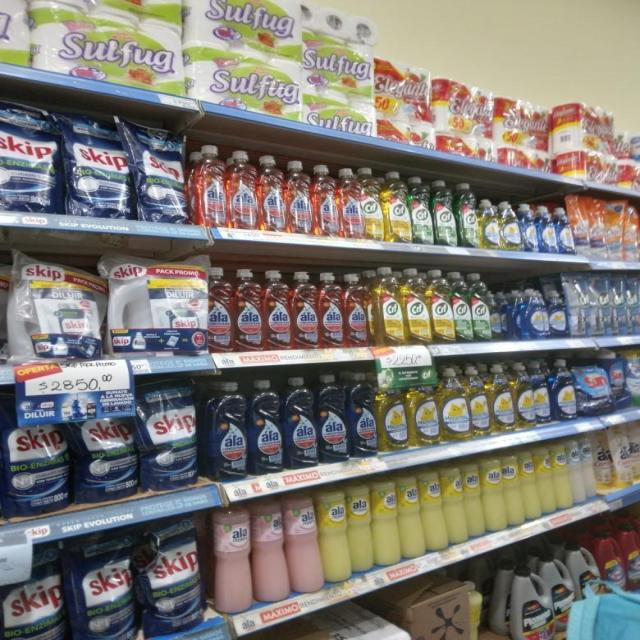ala_conc_azul: (207, 381, 248, 480), (249, 378, 283, 476), (284, 377, 317, 470), (317, 373, 348, 464), (348, 372, 376, 458)
ala_conc_rojo: (194, 144, 226, 228), (227, 150, 258, 230), (235, 268, 263, 352), (207, 267, 234, 353), (264, 270, 291, 350), (259, 155, 286, 233), (292, 270, 318, 350), (286, 160, 312, 234), (313, 164, 339, 237), (319, 272, 343, 349), (344, 272, 368, 348), (339, 167, 362, 240)
ala_crem_amarillo: (320, 487, 348, 584), (372, 478, 398, 568), (348, 483, 372, 574), (398, 474, 422, 560), (422, 470, 444, 552), (443, 466, 464, 546), (483, 457, 503, 533), (464, 462, 482, 540), (504, 454, 520, 528), (521, 451, 537, 524), (553, 442, 569, 512), (537, 446, 553, 516)
ala_crem_blanco: (582, 437, 595, 501), (570, 440, 582, 506)
ala_crem_rosado: (212, 504, 251, 614), (252, 499, 286, 604), (286, 493, 320, 595)
cif_conc_bot_amarilla: (372, 266, 402, 346), (403, 267, 429, 345), (384, 171, 409, 243), (429, 269, 452, 344), (362, 167, 383, 241)
cif_conc_botella_verde: (433, 179, 456, 246), (411, 175, 432, 245), (457, 182, 478, 248), (472, 272, 491, 342), (452, 271, 470, 343)
magistral_con_amarillo: (408, 373, 439, 447), (378, 373, 407, 452), (440, 366, 468, 442), (489, 363, 514, 433), (469, 364, 489, 438), (514, 362, 534, 429), (479, 199, 499, 250), (500, 200, 519, 251)
magistral_con_azul: (552, 358, 576, 422), (525, 288, 547, 340), (534, 360, 550, 426), (520, 203, 538, 251)
